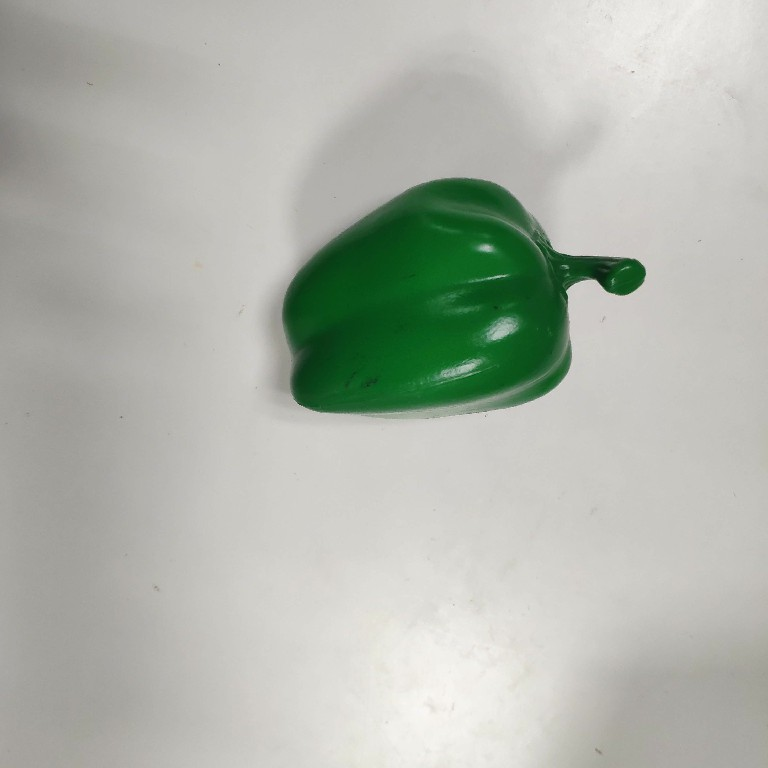fruit_pepper: (270, 170, 650, 427)
